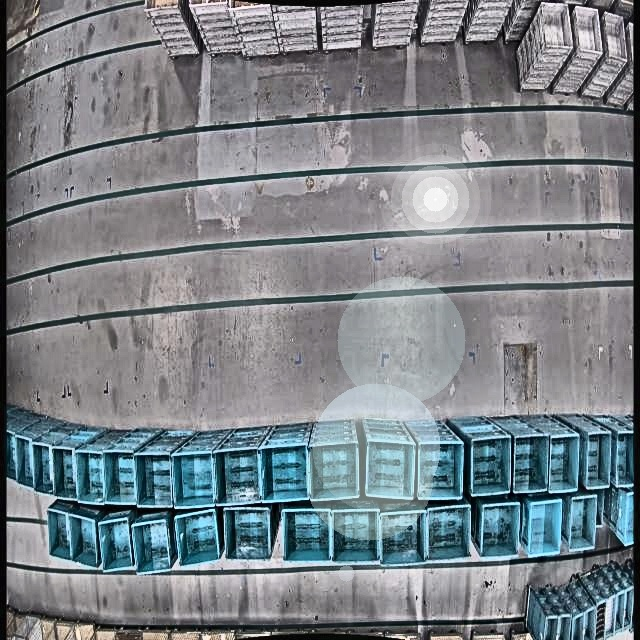Box: (309, 438, 361, 501), (365, 436, 415, 500), (416, 436, 464, 501), (331, 505, 380, 566), (282, 505, 331, 566), (425, 501, 472, 563), (223, 504, 272, 563), (263, 442, 310, 503), (378, 507, 424, 567), (469, 434, 512, 498), (478, 499, 522, 561), (171, 449, 216, 509), (176, 508, 220, 569), (221, 445, 262, 506), (132, 516, 170, 575), (527, 497, 562, 557), (98, 515, 134, 572), (547, 430, 579, 491), (140, 451, 173, 508), (567, 493, 598, 552), (518, 432, 548, 492), (69, 513, 99, 568), (78, 447, 106, 504), (583, 429, 610, 488), (110, 448, 137, 505), (47, 506, 71, 564), (53, 445, 77, 500), (32, 439, 54, 493), (614, 429, 634, 487), (613, 488, 633, 545), (16, 434, 33, 490), (623, 582, 634, 635), (6, 429, 17, 482), (605, 593, 616, 640), (142, 0, 179, 11), (541, 615, 557, 640), (558, 612, 572, 640), (584, 605, 595, 640), (596, 598, 605, 640), (572, 612, 584, 640), (616, 589, 623, 637)
